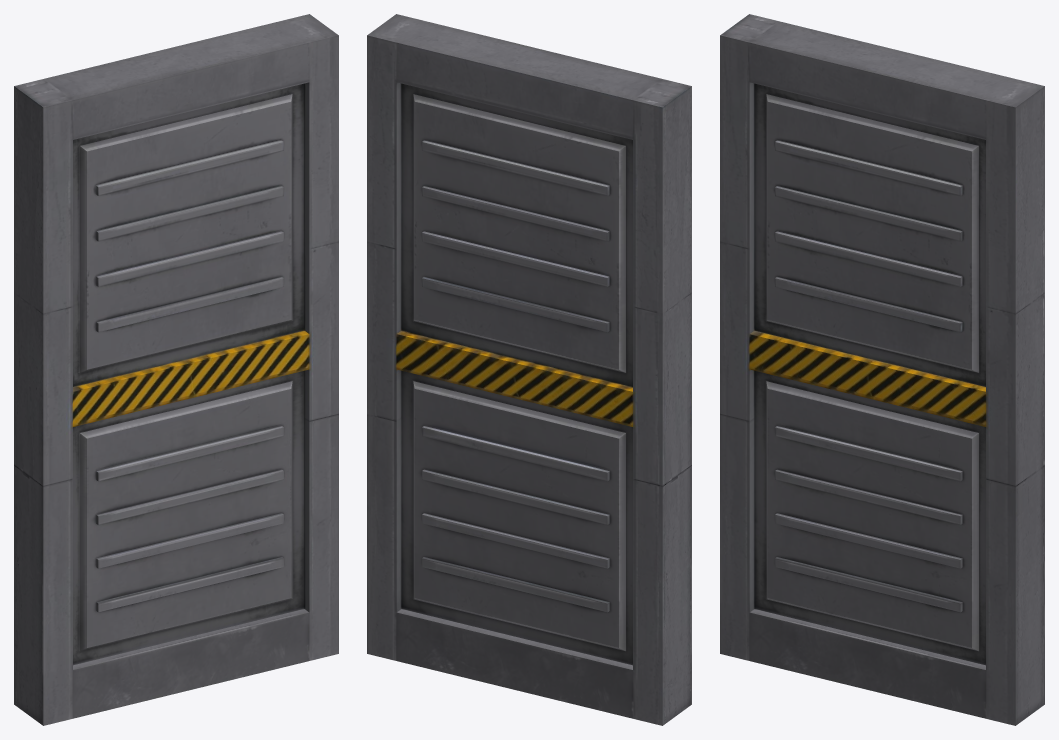
File: kit_door_leaf.glb
The picture shows the model from 3 angles, left to right: view 1: azimuth 30°, elevation 25°; view 2: azimuth 150°, elevation 25°; view 3: azimuth 330°, elevation 25°; orthographic projection.
Visible parts, largest first — view 1: kit_door_leaf.001; view 2: kit_door_leaf.001; view 3: kit_door_leaf.001.
Boxes of the visible parts, left/top/right/bottom form: kit_door_leaf.001: left=14, top=14, right=338, bottom=725; kit_door_leaf.001: left=367, top=14, right=691, bottom=725; kit_door_leaf.001: left=720, top=14, right=1044, bottom=725.
Size of the model in its own units: 3.5 by 7 by 0.6.
3 materials, 3 textured.
